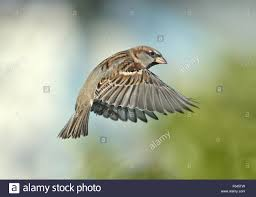hsparrow: (55, 44, 201, 141)
